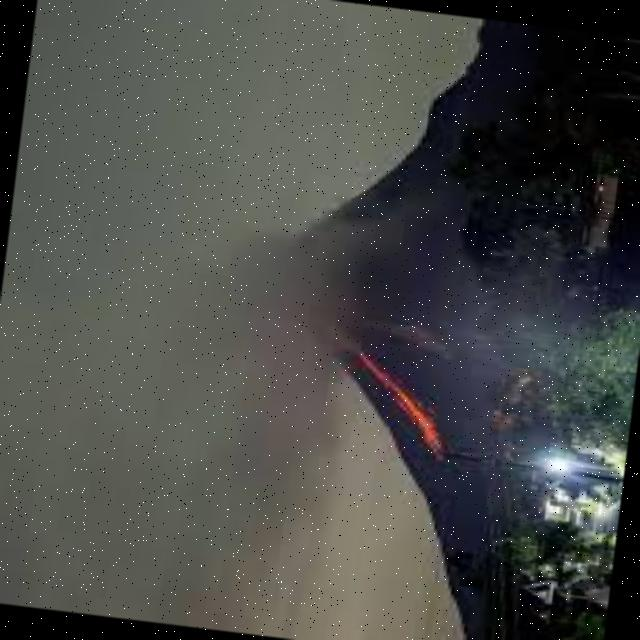explosion: (123, 150, 425, 410)
